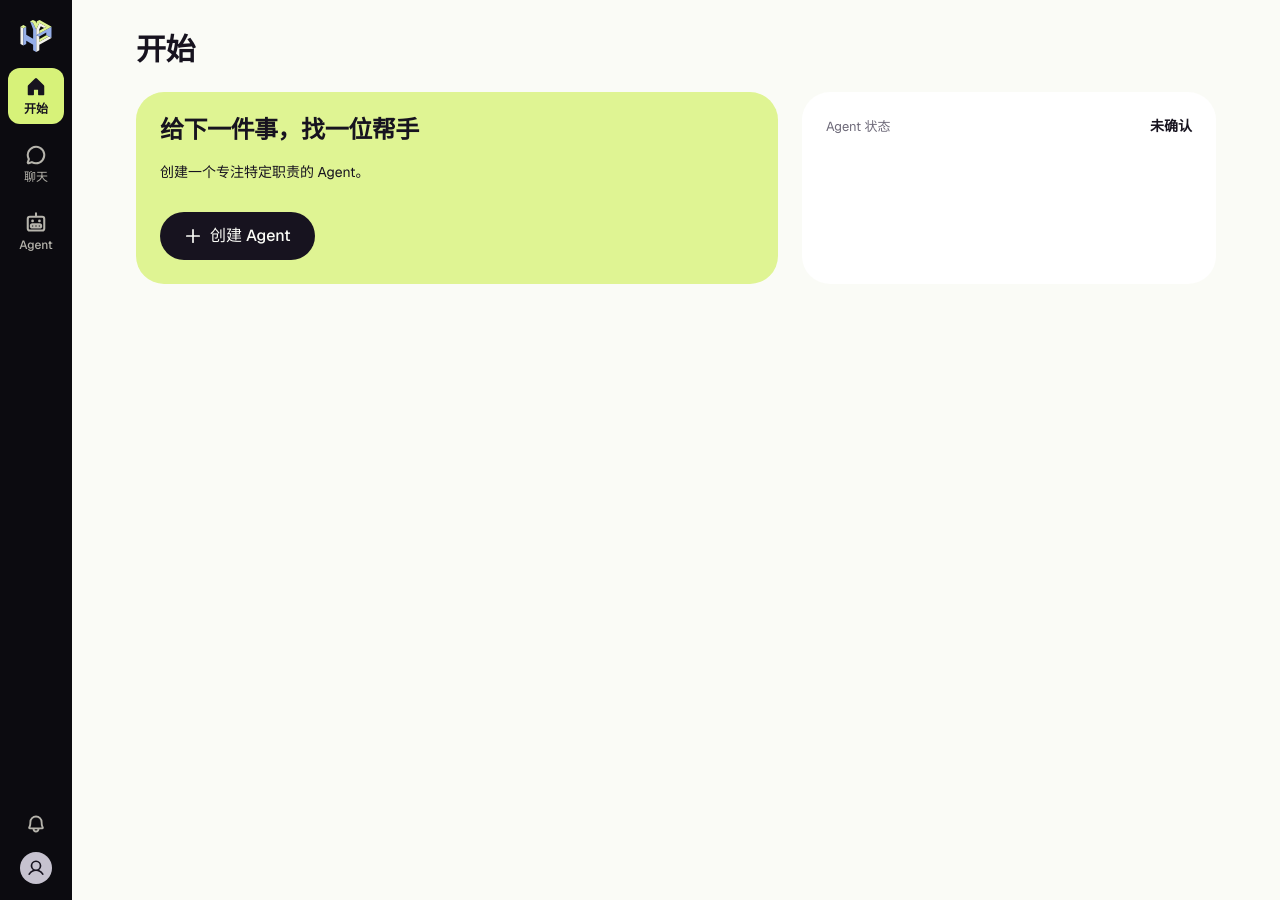
Test: agents directory (read-side wiring) › shows the fixed directory error with retry and hides raw text
Step 1. Click the button "Agent" → click(36, 232), box [8,204,64,260]
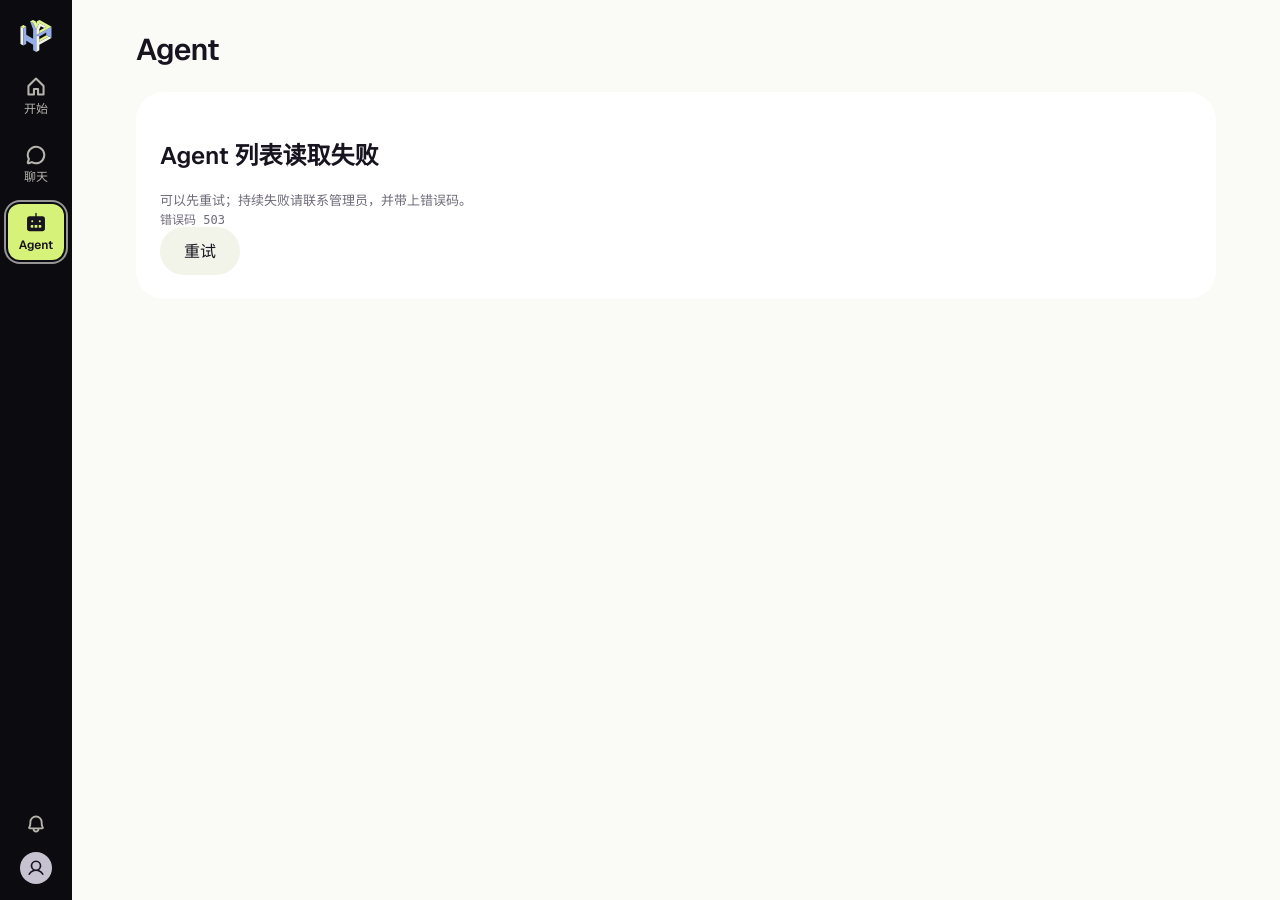
expect the heading "Agent 列表读取失败" is shown: met, box [160,140,378,171]
expect the text "错误码 503" is shown: met, box [160,213,225,227]
expect the button "创建 Agent" is gone: met
Step 2. Click the button "重试" → click(200, 251), box [160,227,240,275]
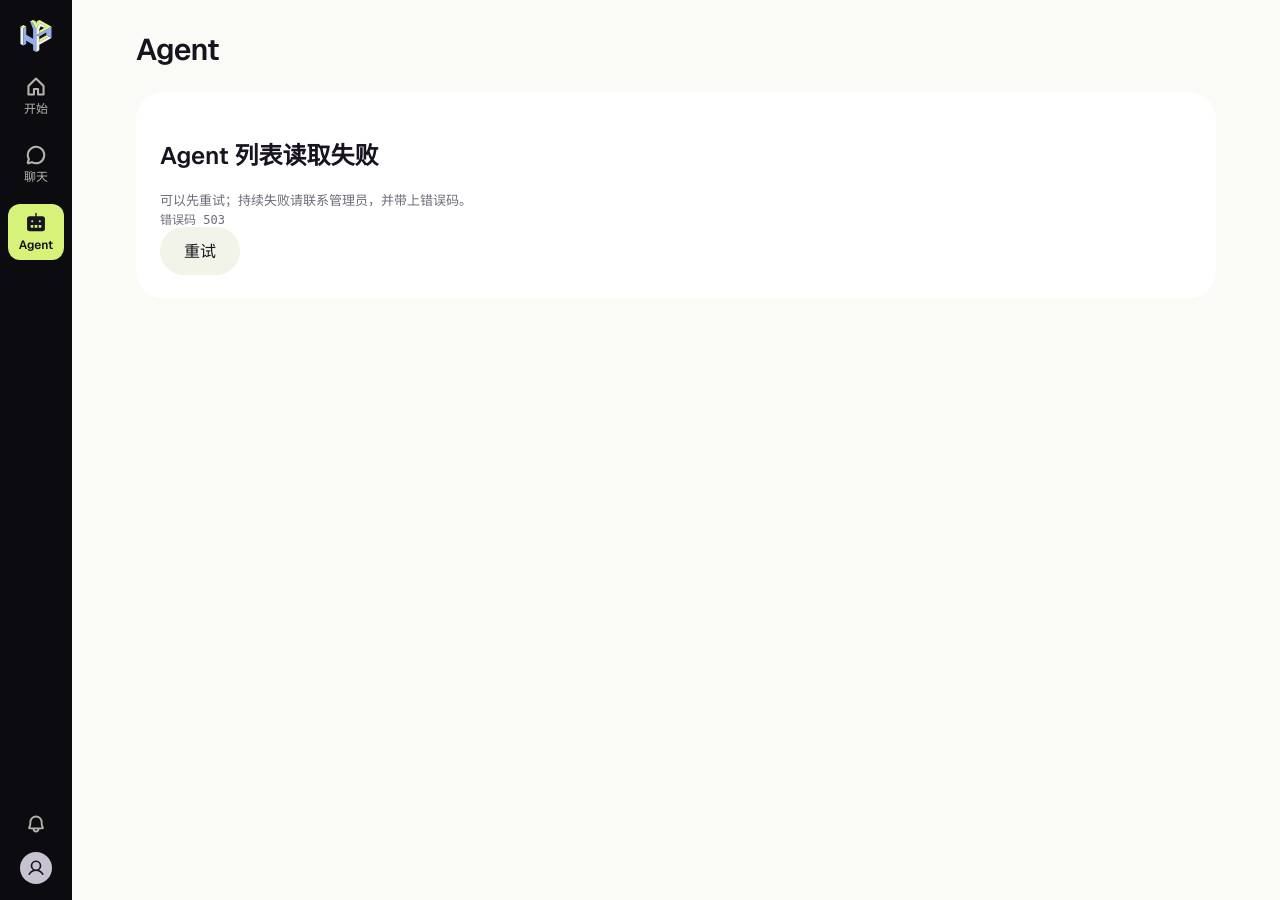
expect the heading "Agent 列表读取失败" is shown: met, box [160,140,378,171]
Step 3. Click the button "重试" → click(200, 251), box [160,227,240,275]
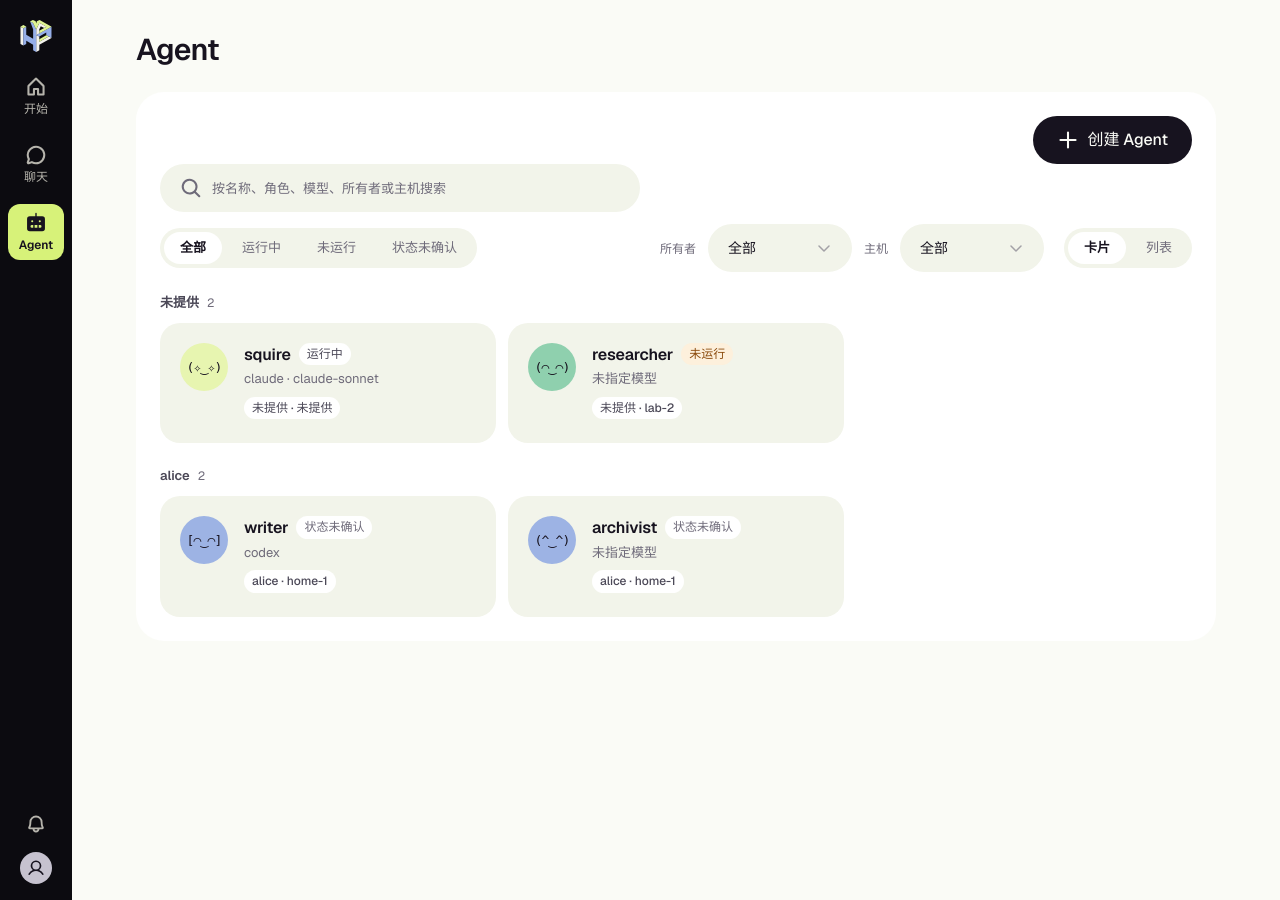
expect the button with test id "contact-squire" is shown: met, box [160,323,496,443]
expect the heading "Agent 列表读取失败" is gone: met
